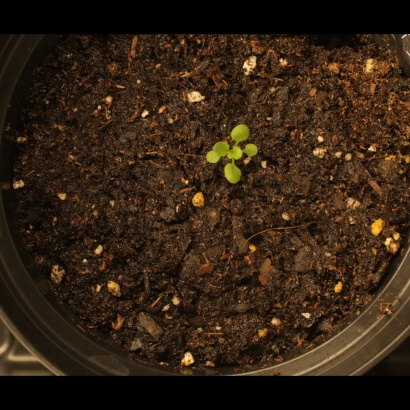leaf: (201, 151, 224, 174), (207, 135, 230, 158), (221, 163, 244, 186), (223, 143, 246, 166), (243, 142, 266, 165), (230, 122, 253, 145)
